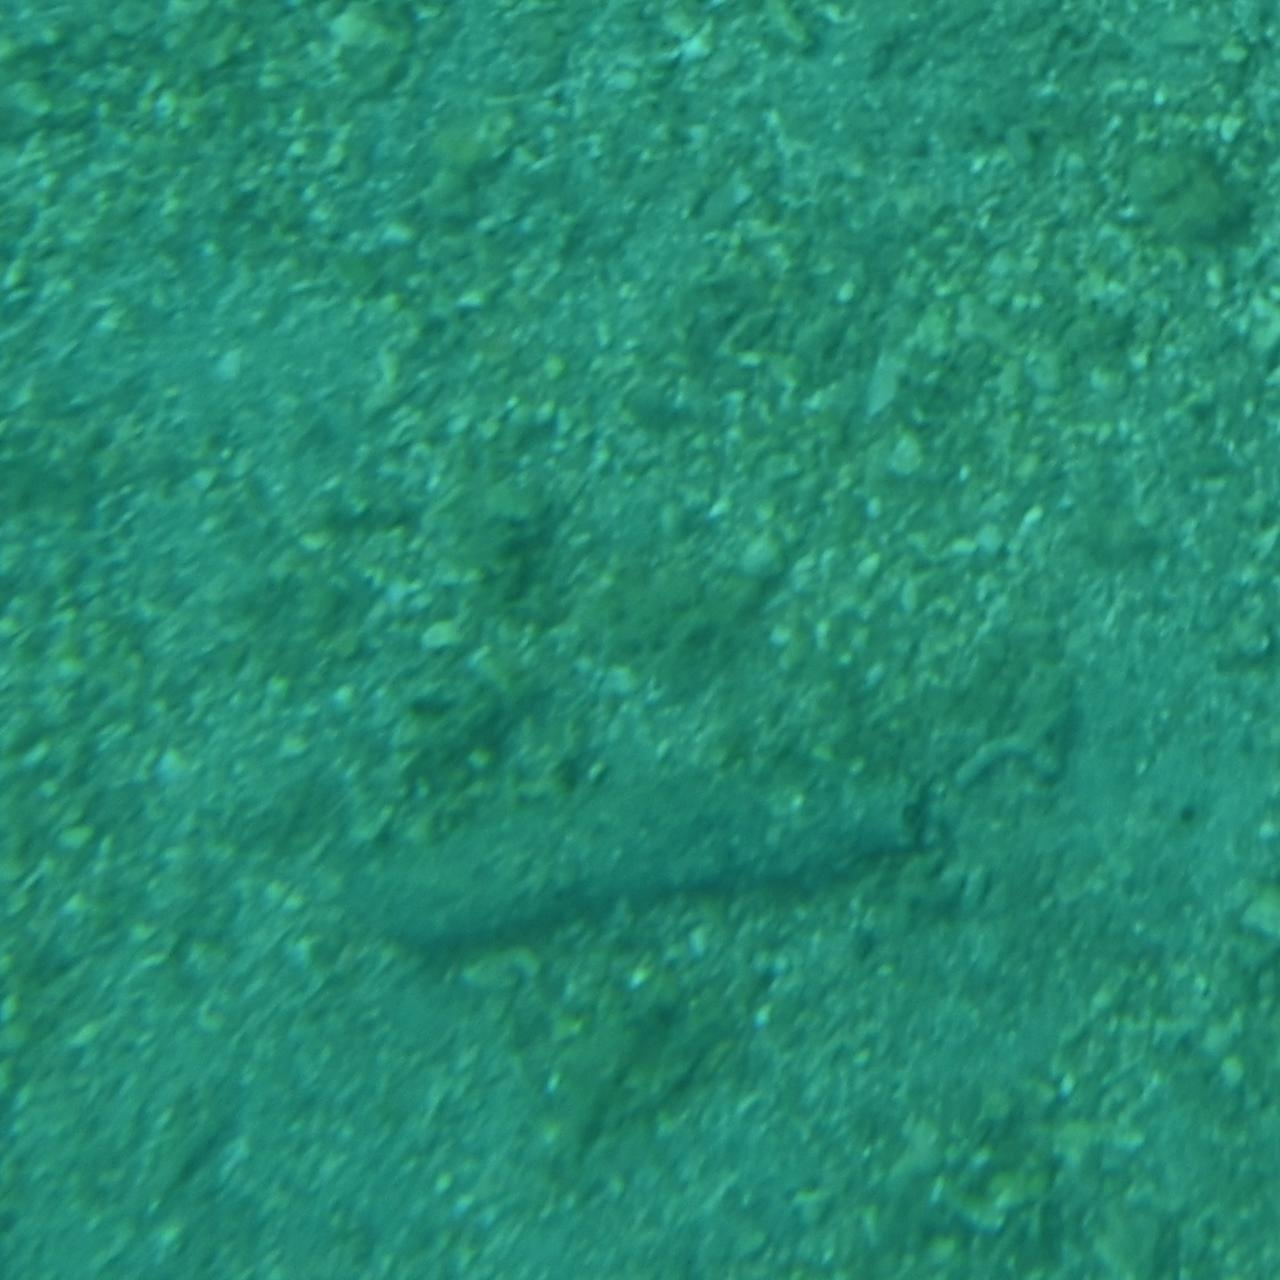Holothuria tubulosa: (328, 762, 952, 974)
